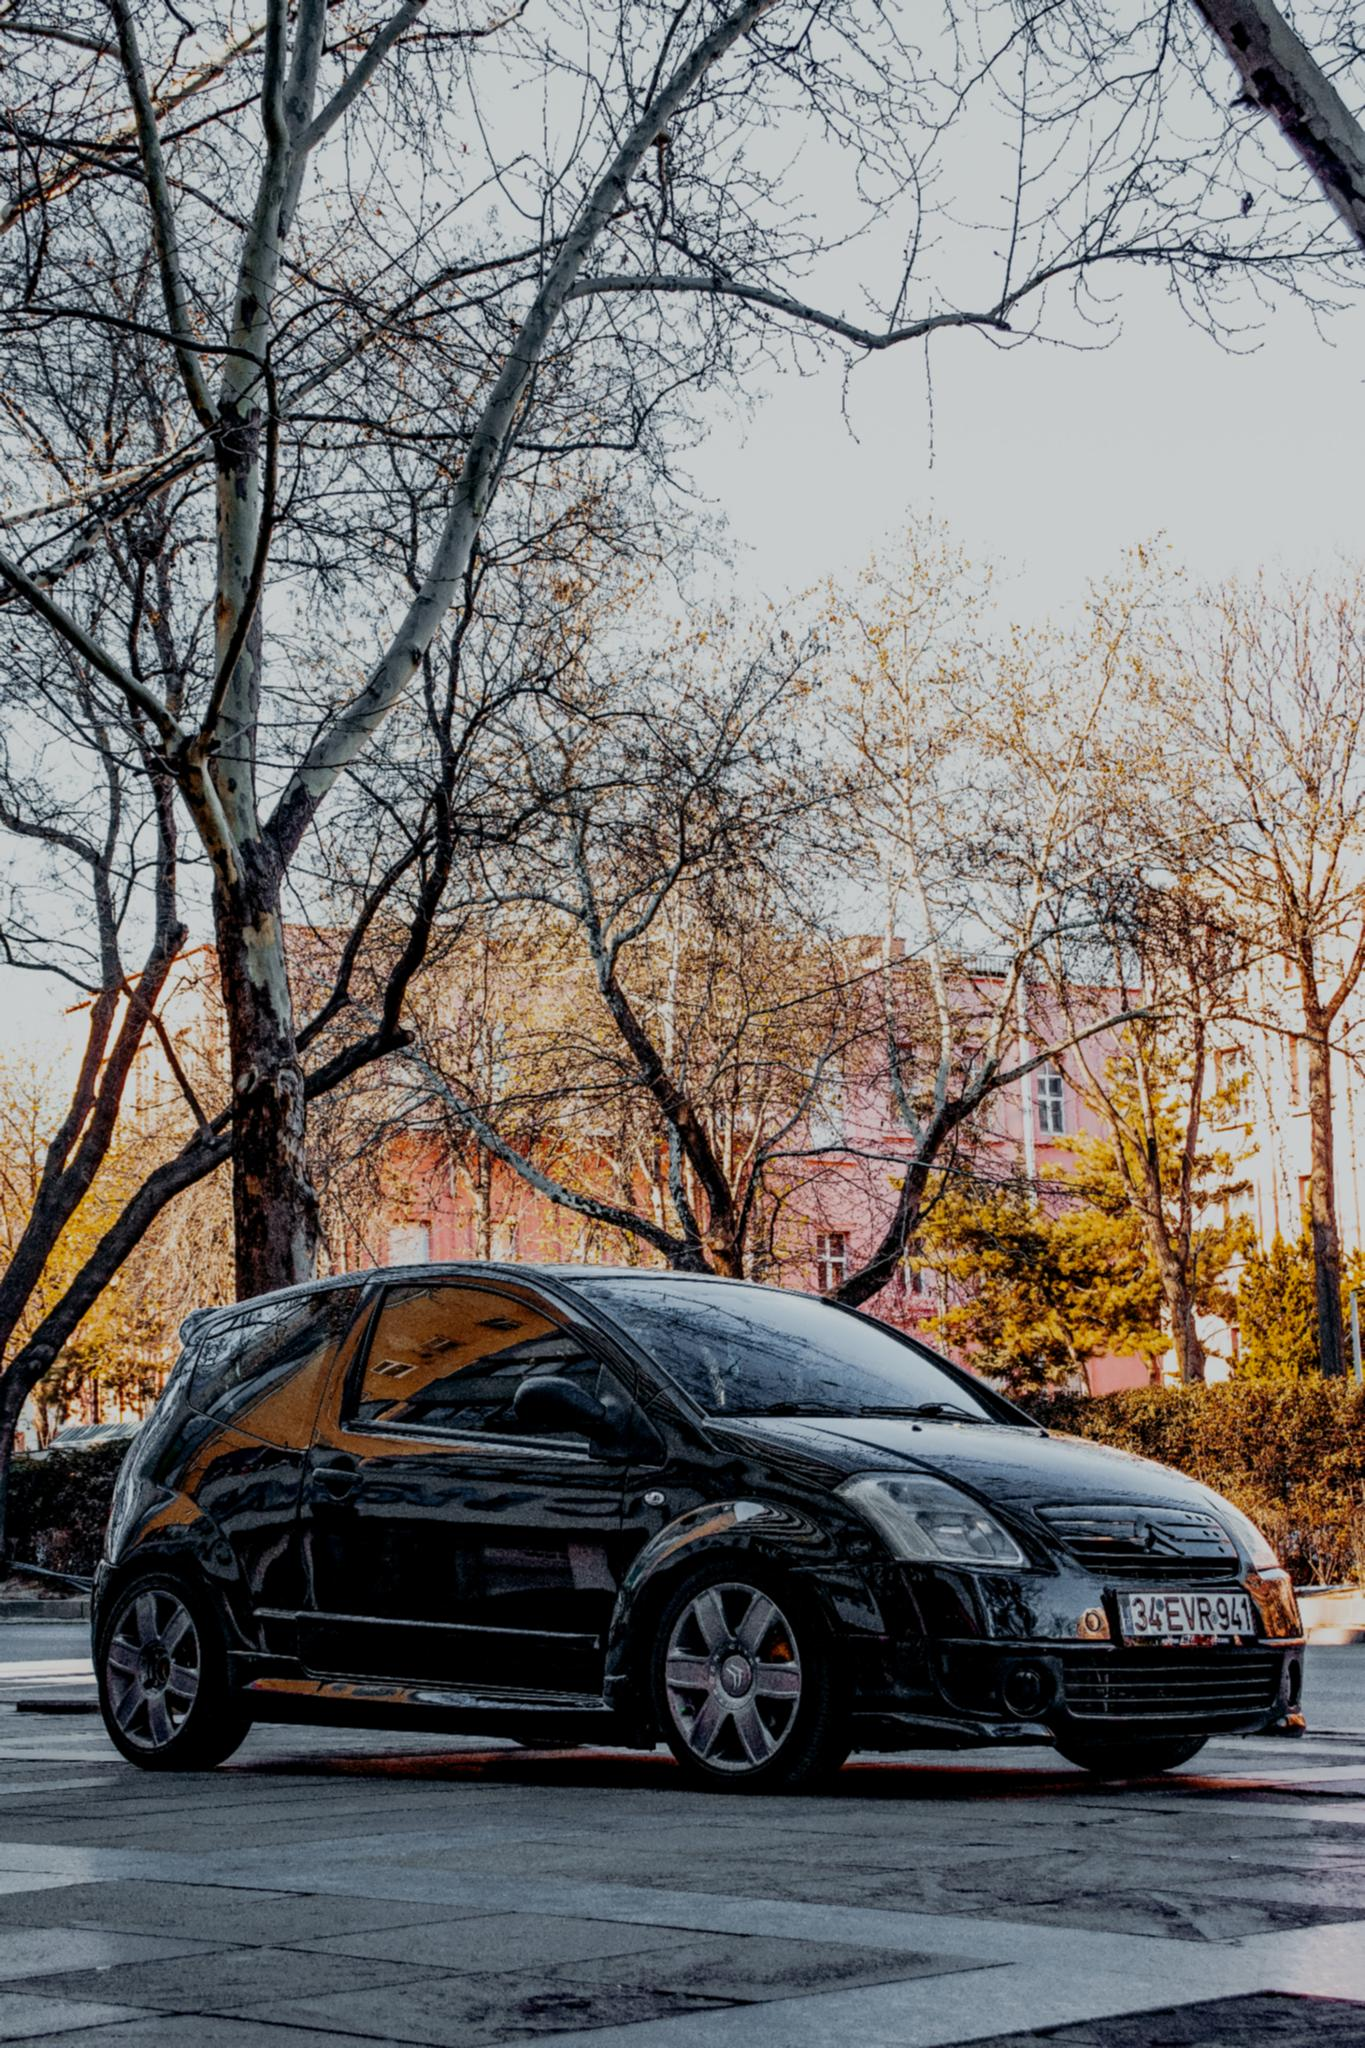Citroen: (1114, 1504, 1199, 1582)
